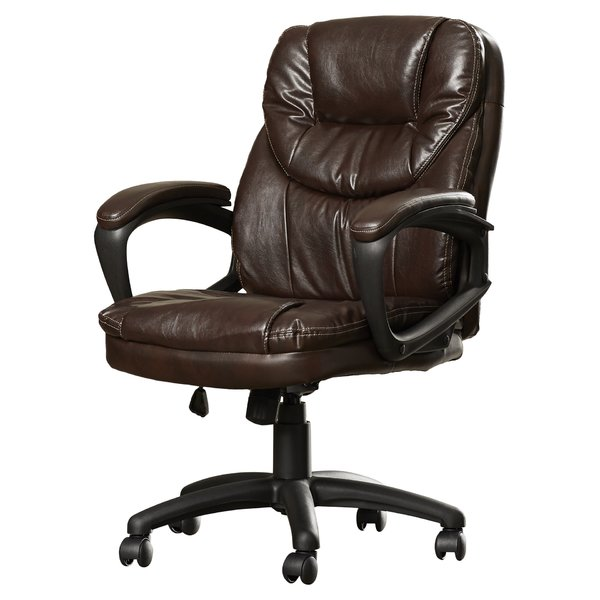chairs: (74, 17, 526, 590)
